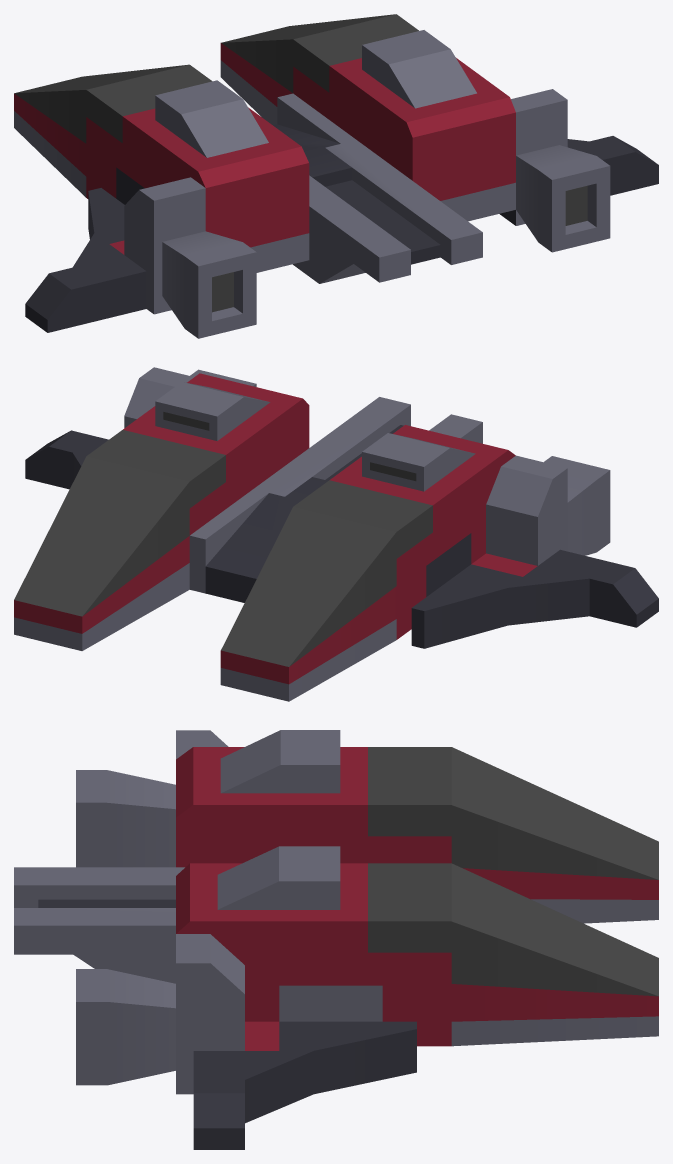
Rendered from boss.glb.
3 renders of one model, top to bottom at view 1: azimuth 30°, elevation 25°; view 2: azimuth 150°, elevation 25°; view 3: azimuth 270°, elevation 25°, orthographic. The views are drawn at different scales.
Visible parts, largest first — view 1: boss; view 2: boss; view 3: boss.
Boxes of the visible parts, x1,y1,x2,y2 form: boss: (14,14,658,338); boss: (14,367,658,701); boss: (14,730,658,1149).
Bounding box in the file's own units: 22 × 5.13 × 17.43.
